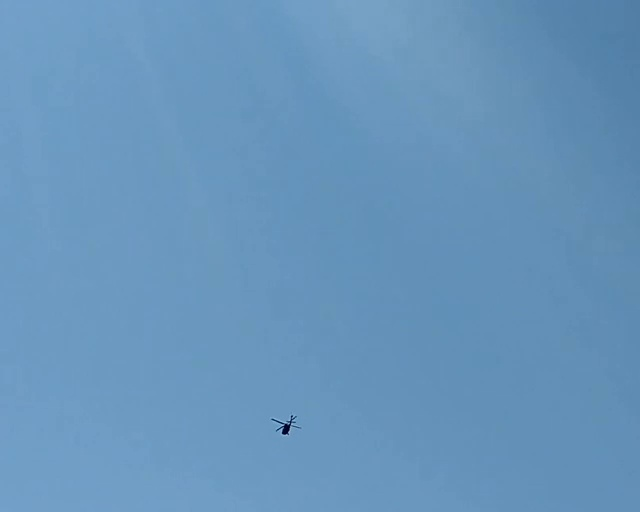HELICOPTER: (271, 413, 301, 435)
